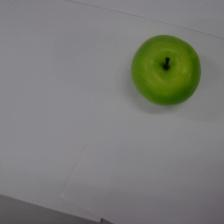green: (131, 34, 201, 106)
